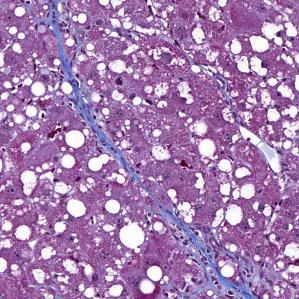fibrosis: (186, 237, 267, 299), (80, 100, 125, 156)
